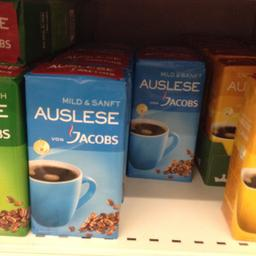coffee: (23, 60, 122, 238), (124, 52, 206, 182), (0, 0, 80, 57)
